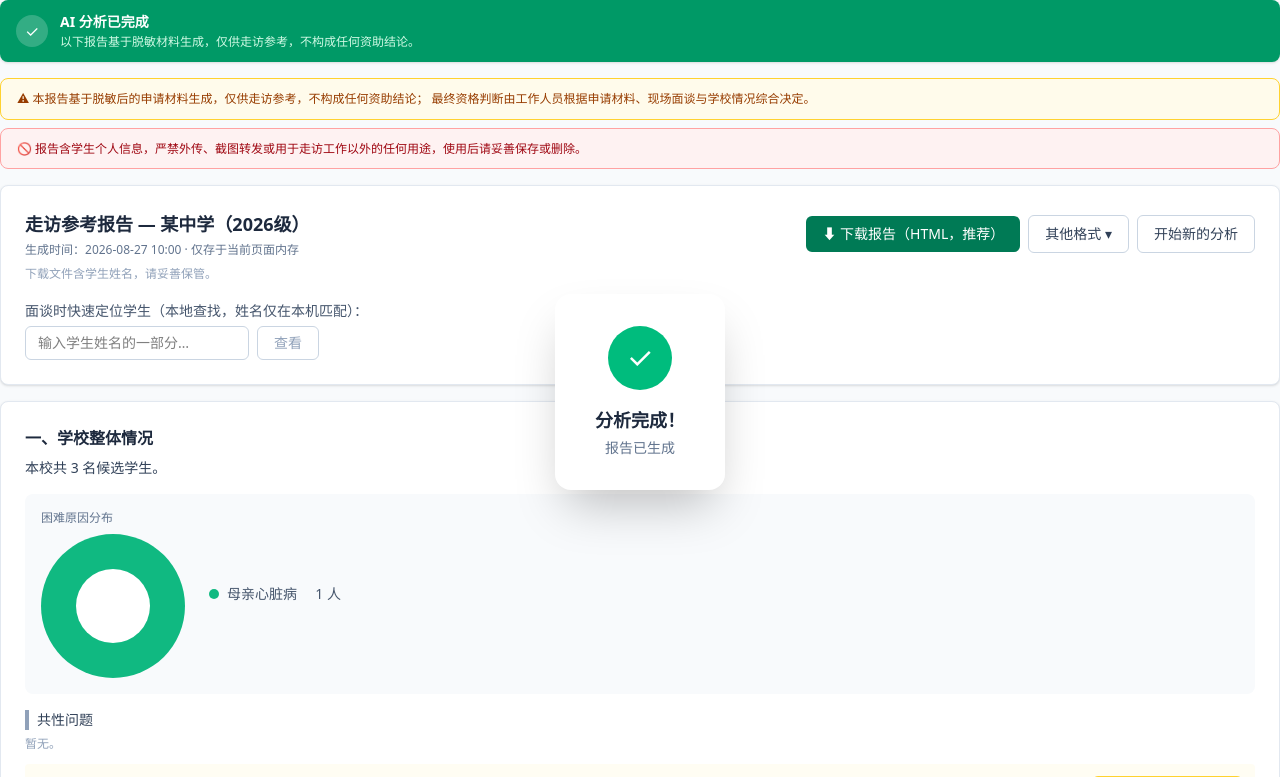
Scenario: ReportStep（本地查找 + 模态框 + 成功动画） › Enter 打开高亮项弹窗：默认第一项，↓ 后为第二项
Step 1. Type "王" into the dropdown with placeholder "输入学生姓名的一部分…" → [137, 343], box x1=25 y1=326 x2=249 y2=360
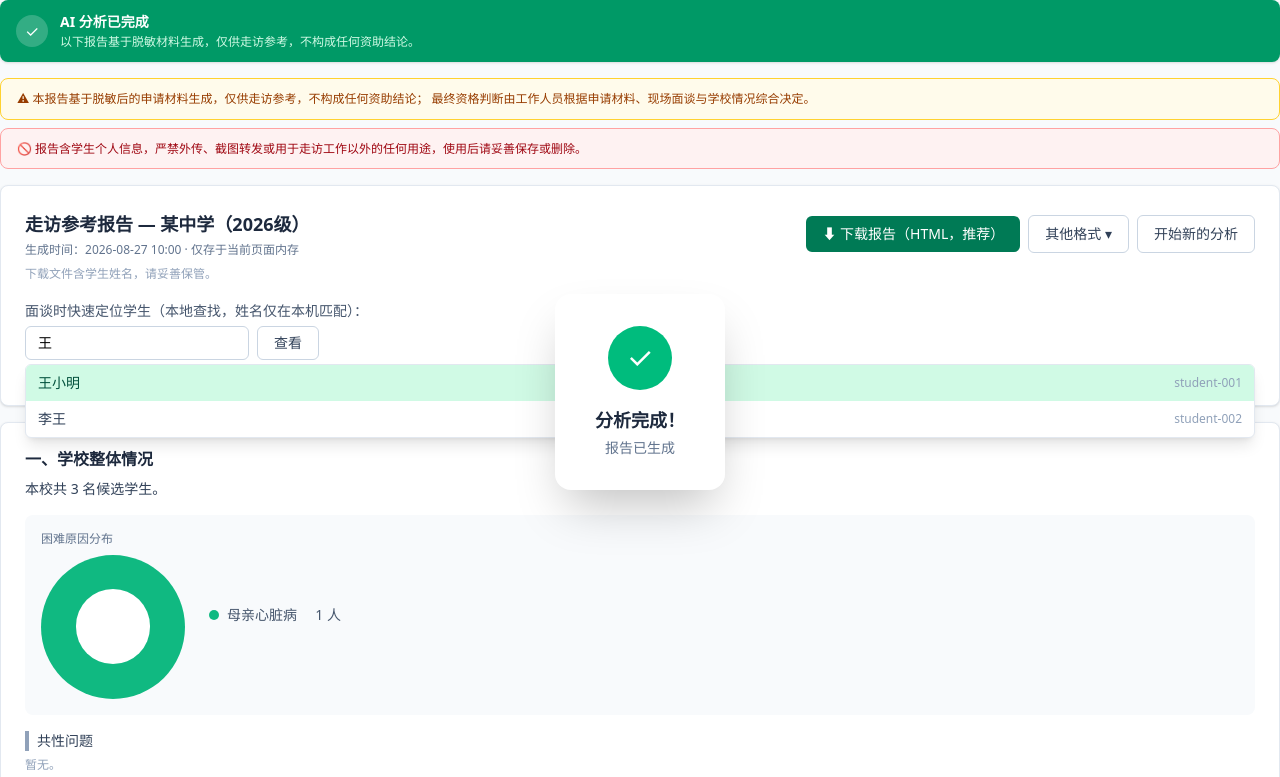
Step 2. Press Enter in the dropdown with placeholder "输入学生姓名的一部分…", box x1=25 y1=326 x2=249 y2=360
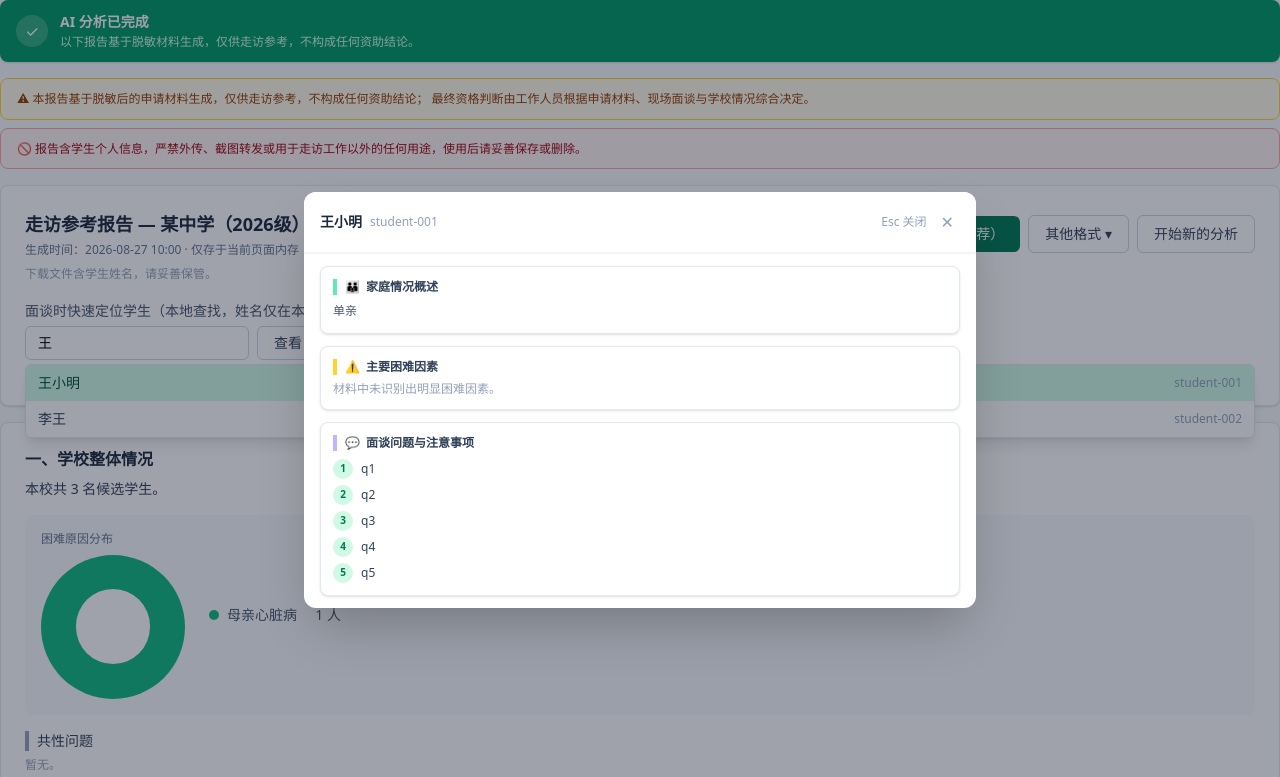
Now the dialog shows "student-001", box x1=370 y1=213 x2=438 y2=230
Step 3. Click the button named "关闭" → [947, 222], box x1=935 y1=204 x2=960 y2=240
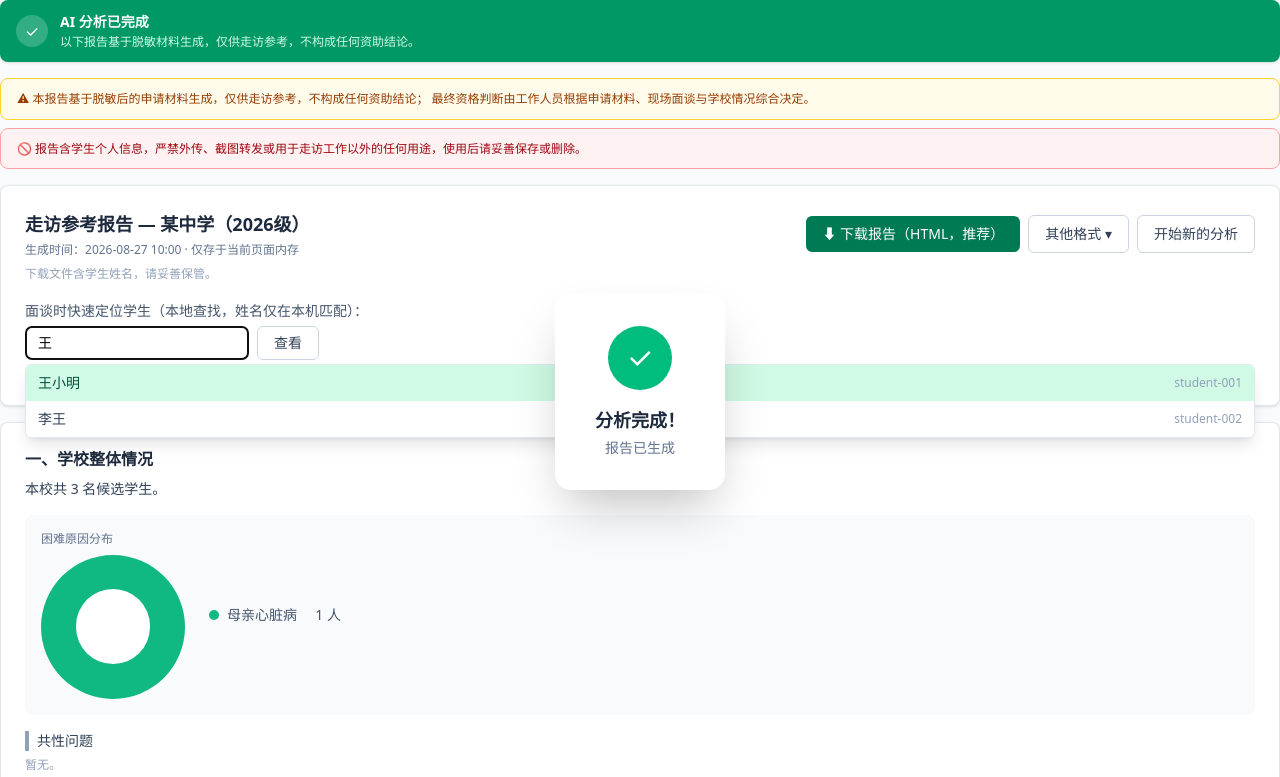
Step 4. Press ArrowDown in the dropdown with placeholder "输入学生姓名的一部分…", box x1=25 y1=326 x2=249 y2=360
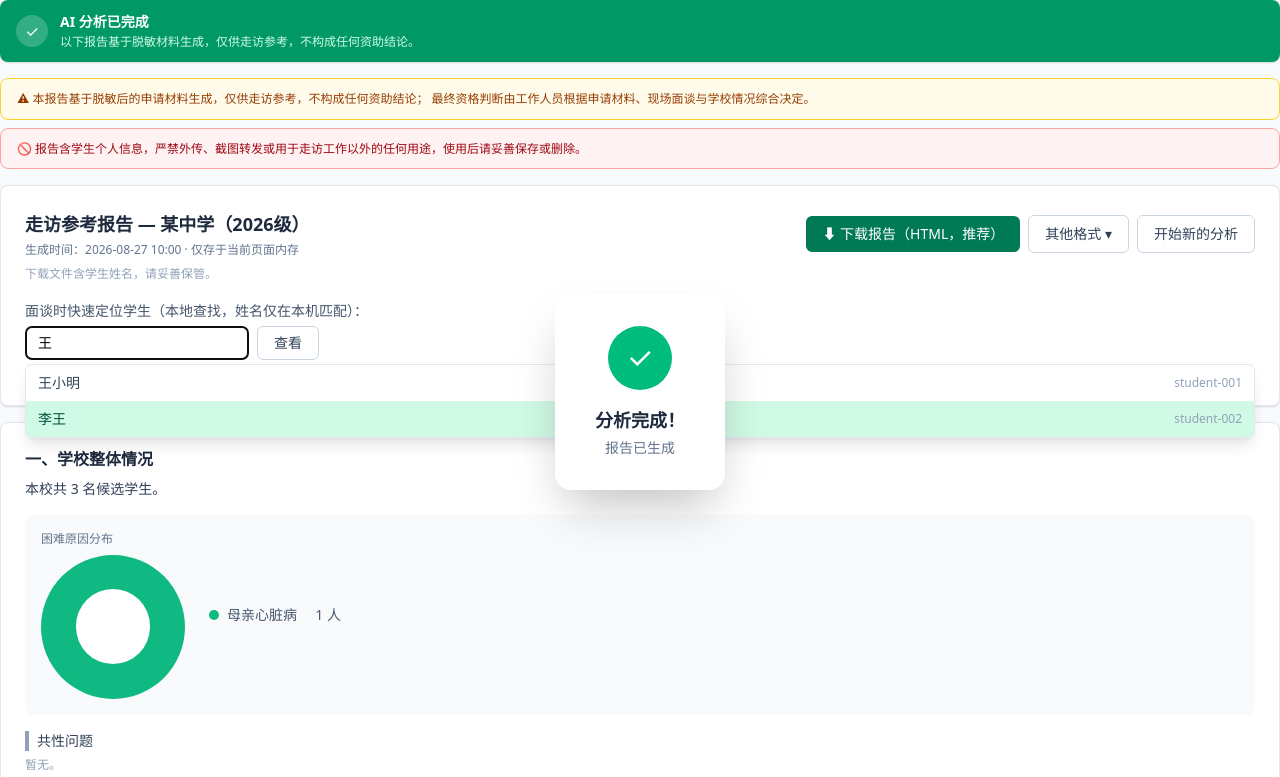
Step 5. Press Enter in the dropdown with placeholder "输入学生姓名的一部分…", box x1=25 y1=326 x2=249 y2=360
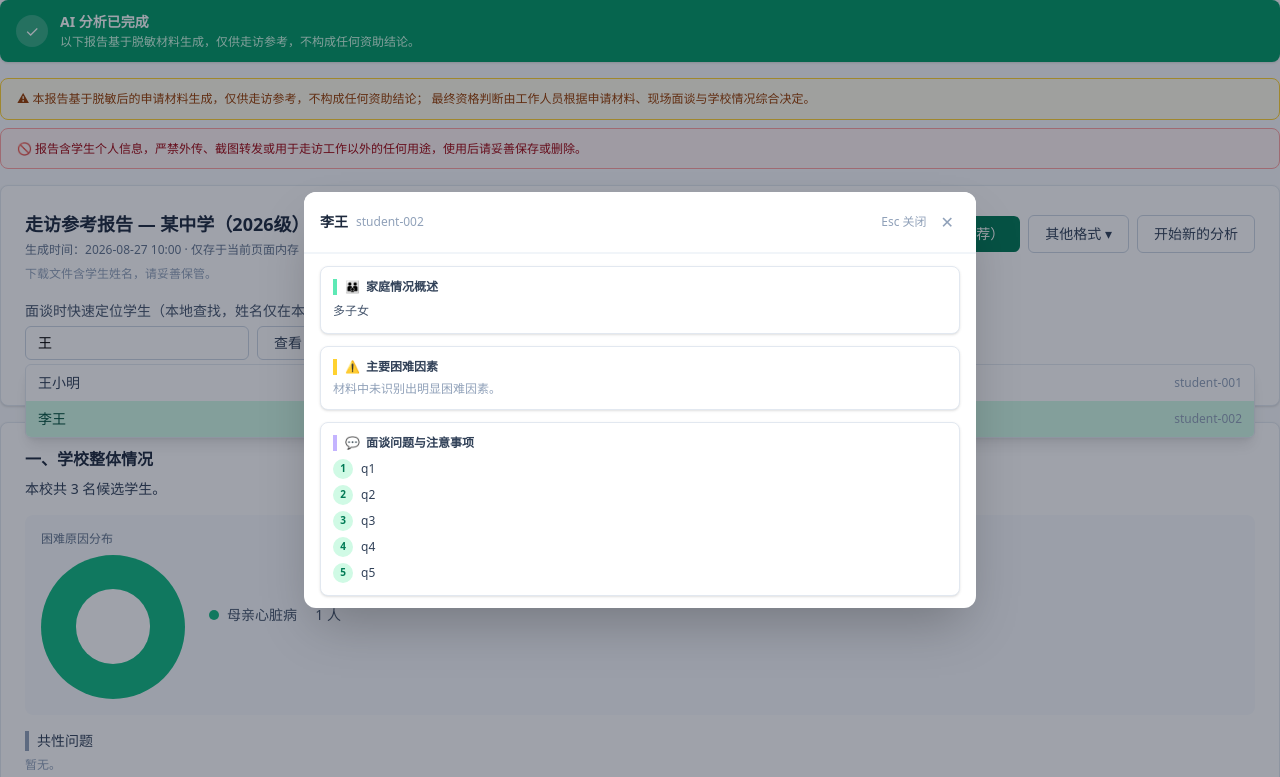
Now the dialog shows "student-002", box x1=356 y1=213 x2=424 y2=230
